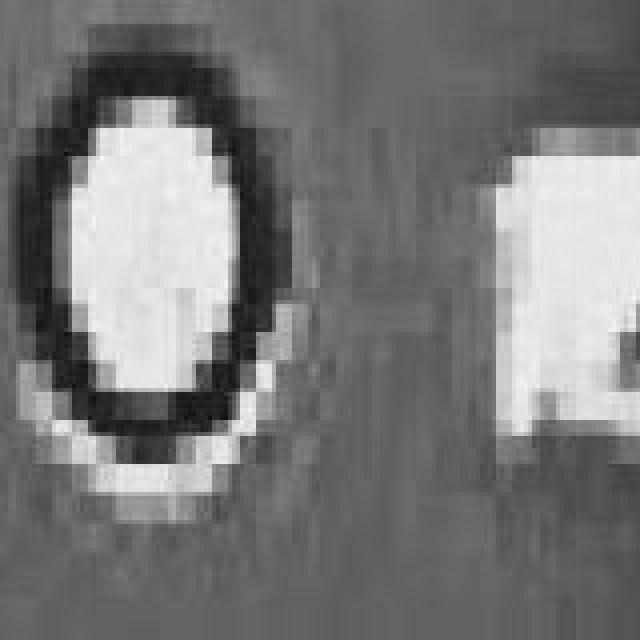switch: (568, 0, 640, 508)
